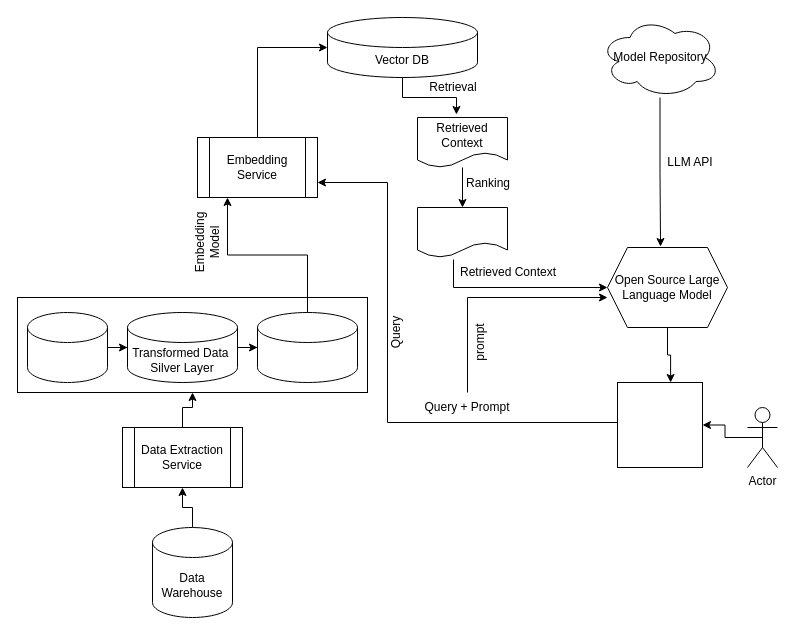
Image size: 795x635. Some labels were removed from this diagram. The shapes that lost their labels are listed below. From the top down, each one's centre as x and y in pixels, then its label:
At (x=462, y=232): "Top n Retrieved doc".
At (x=67, y=347): "Raw Data Bronze Layer".
At (x=307, y=347): "Aggregated Data Gold Layer".
At (x=659, y=425): "User Interface".
